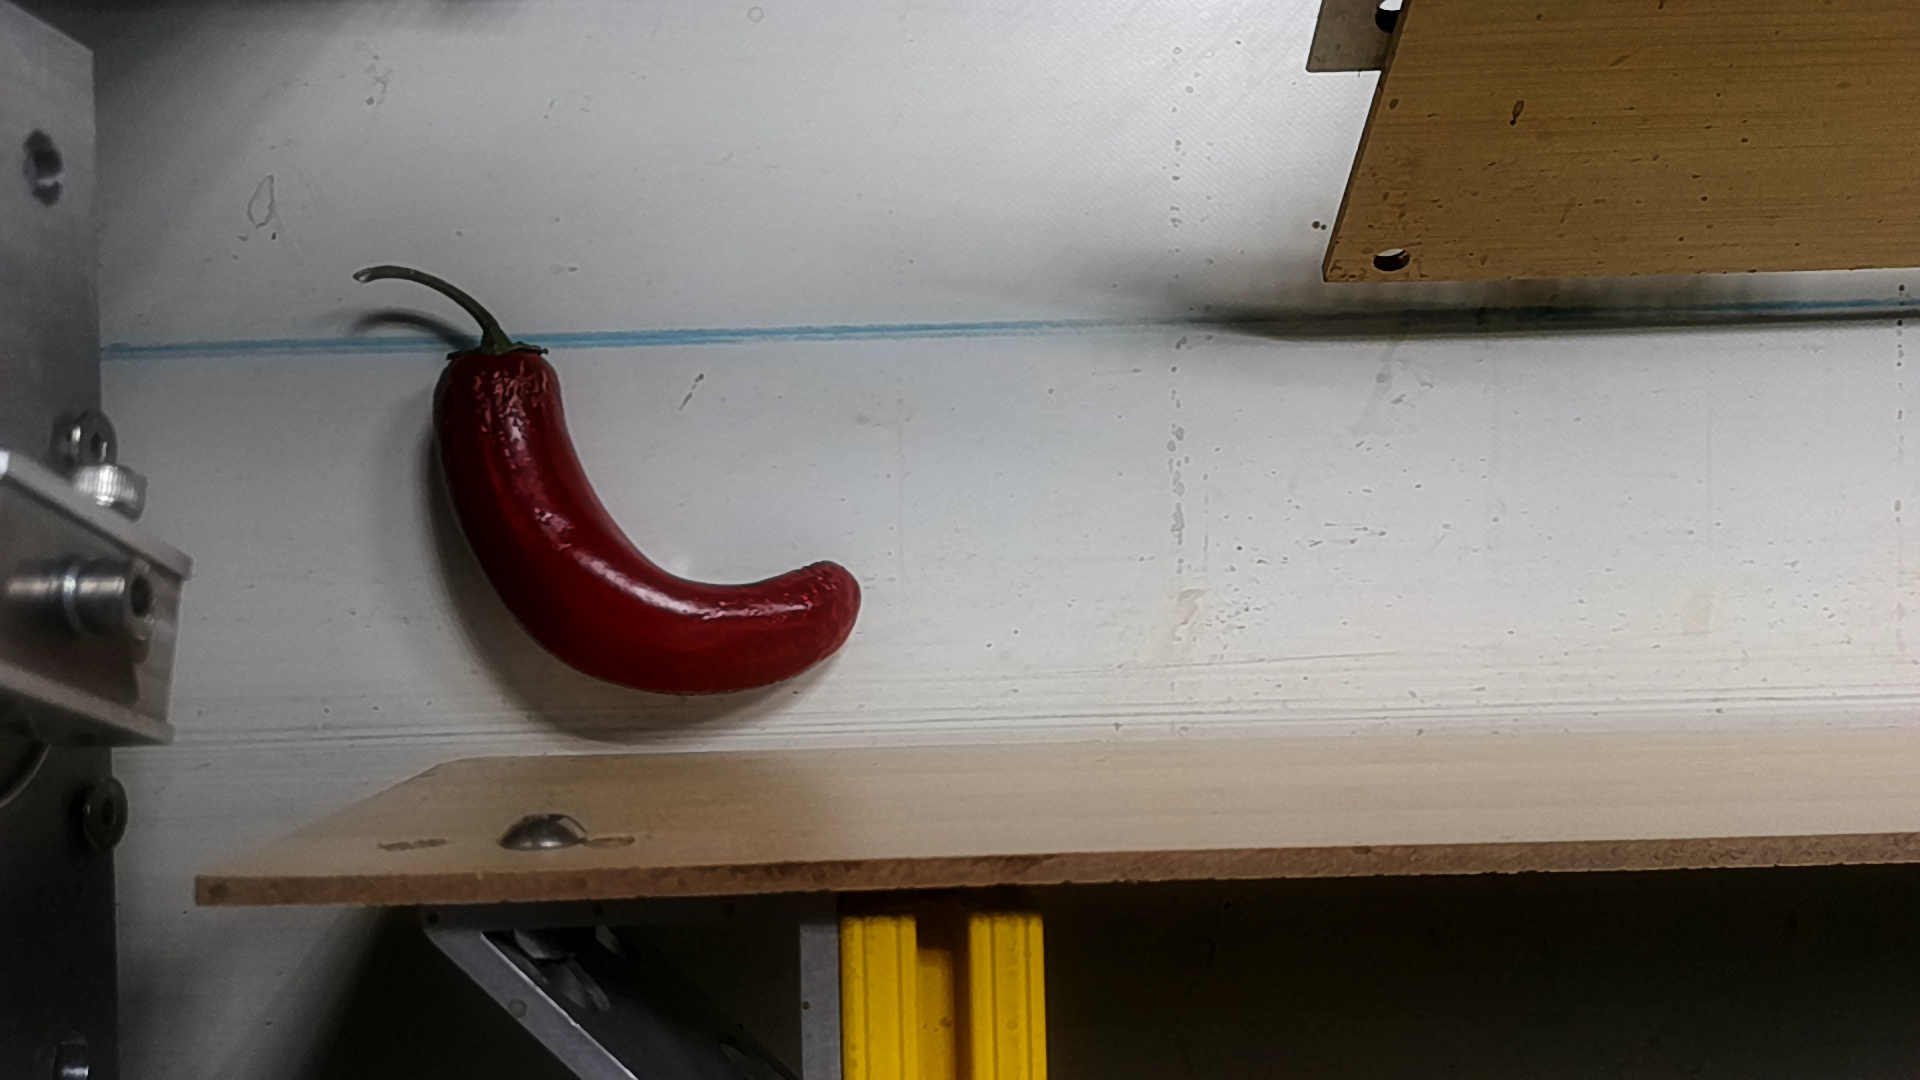Cut Point: (404, 309, 599, 407)
